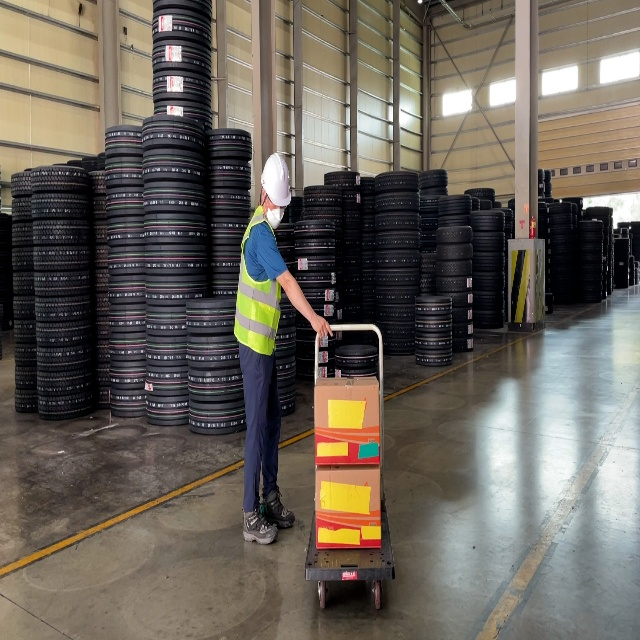Box: (314, 376, 381, 465), (315, 464, 382, 550)
Worker: (234, 152, 333, 546)
